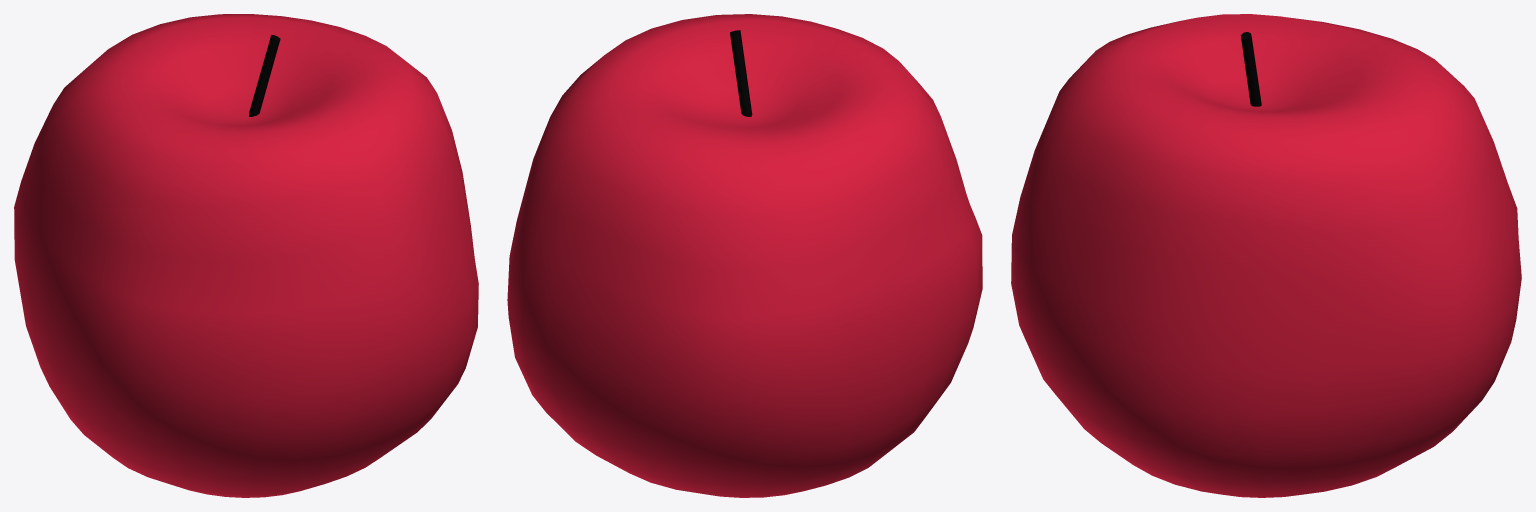
The model's file is Fruit_Apple.fbx.
3 renders of one model, left to right at view 1: azimuth 30°, elevation 25°; view 2: azimuth 150°, elevation 25°; view 3: azimuth 270°, elevation 25°, orthographic. The views are drawn at different scales.
Parts seen in each view (by area): view 1: Apple; view 2: Apple; view 3: Apple.
Boxes of the visible parts, x1,y1,x2,y2 form: Apple: (14, 14, 478, 497); Apple: (507, 14, 982, 497); Apple: (1011, 14, 1521, 497).
Size of the model in its own units: 157 by 169 by 175.
